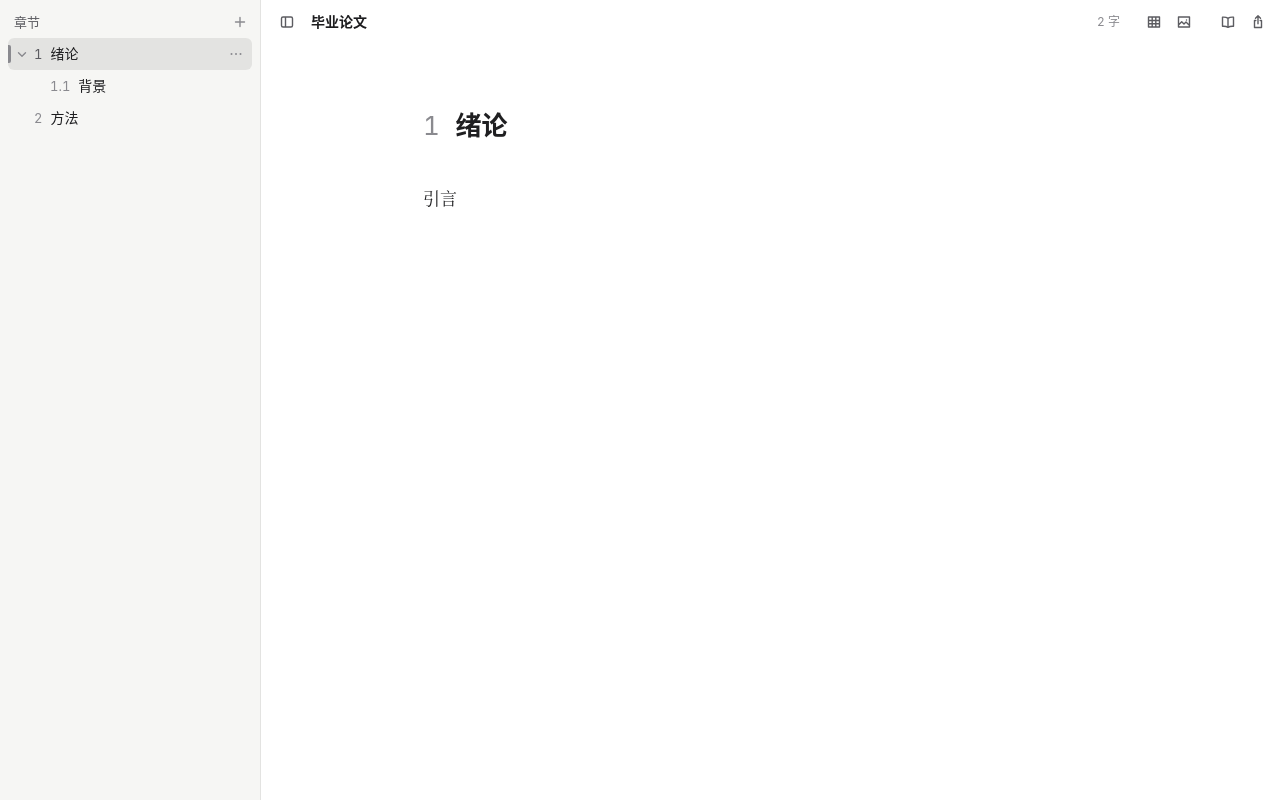
Test: 切换项目：先保存当前项目，再打开新项目
The width and height of the screenshot is (1280, 800).
Step 1. Click the button with class "chapter-tree__add" → x=240, y=22, box [228, 10, 252, 34]
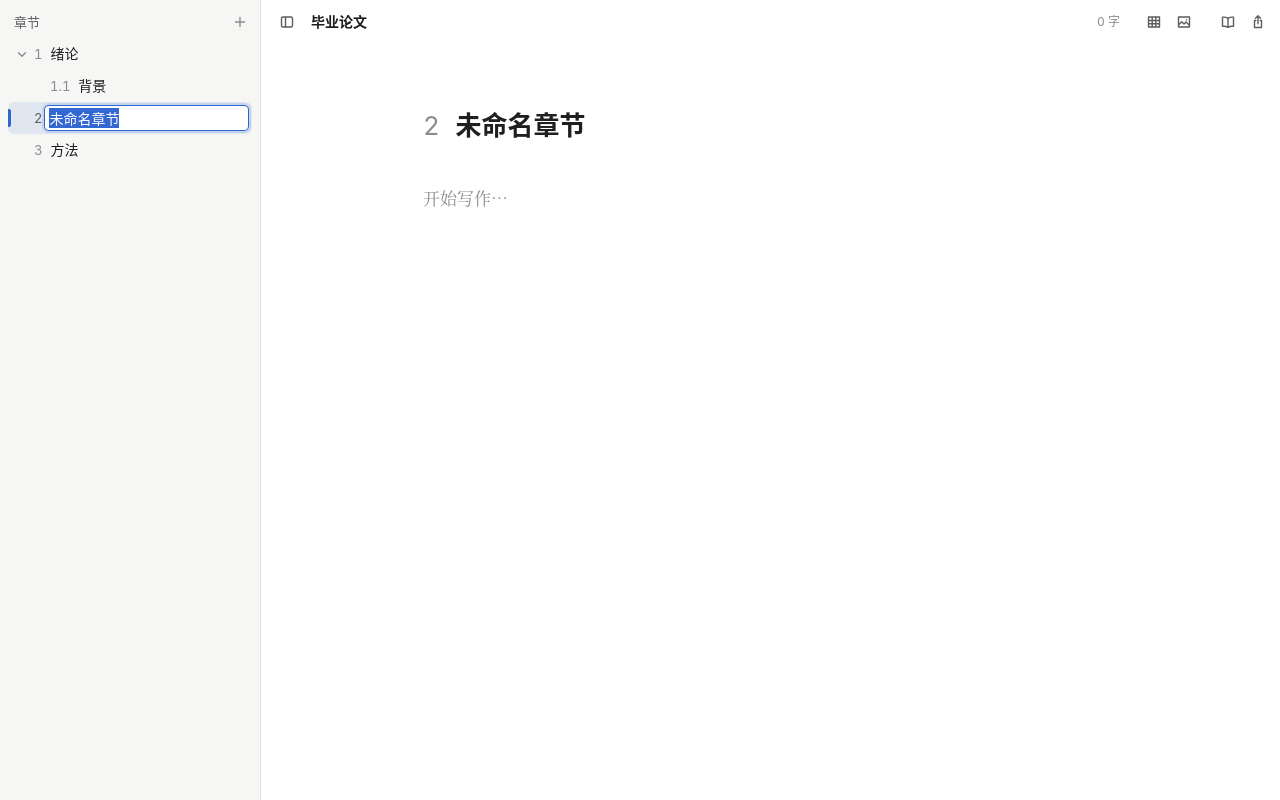
Step 2. Click the button with class "document-title__button" → x=346, y=22, box [305, 8, 387, 36]
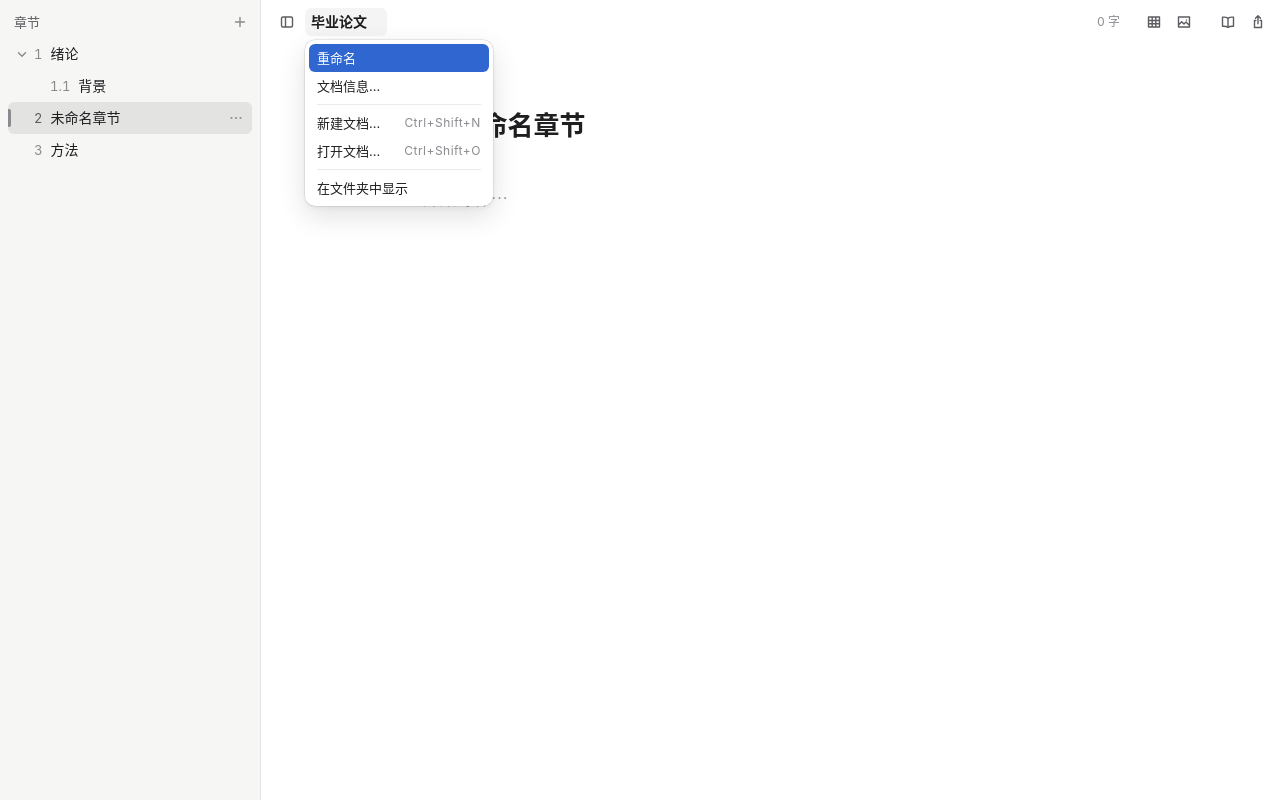
Step 3. Click the menu item "打开文档… Ctrl+Shift+O" → x=399, y=151, box [309, 137, 489, 165]
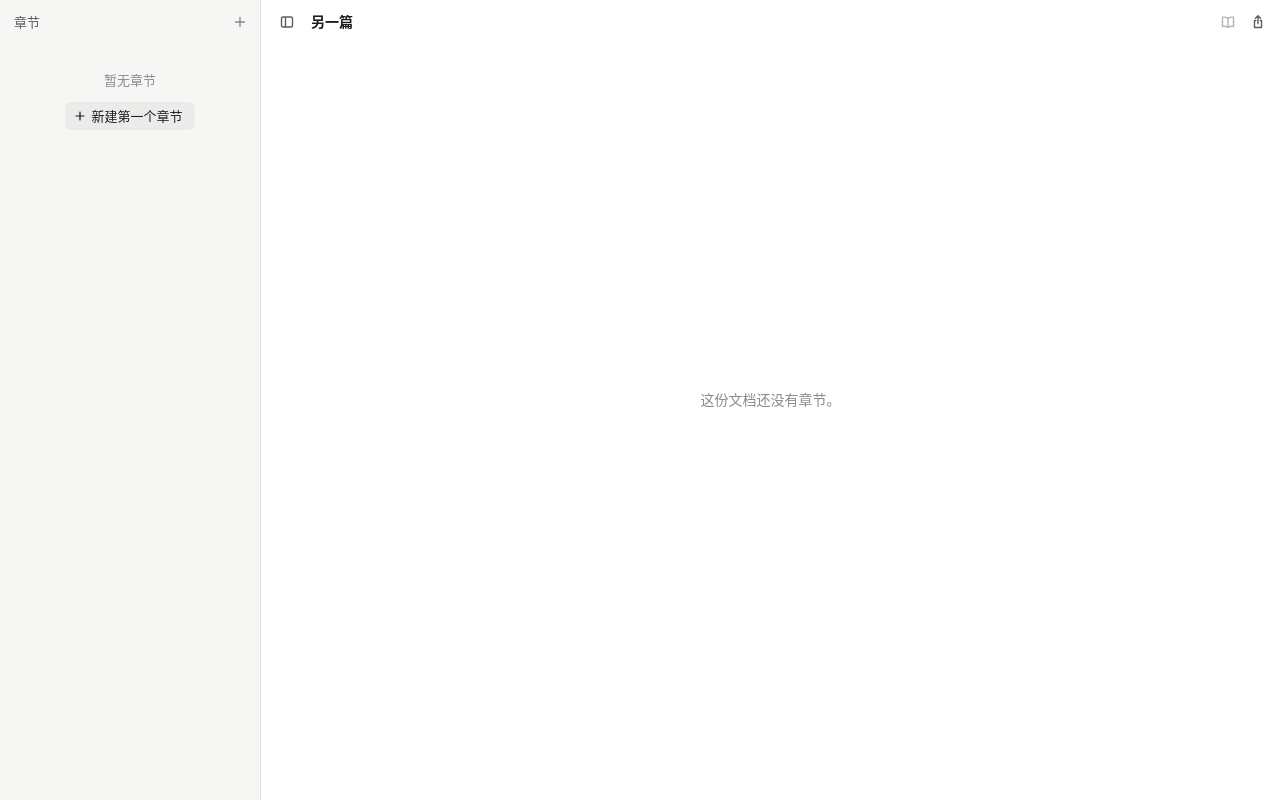
Result: the text with class "document-title__text" reads "另一篇" at [311, 13, 353, 30]
